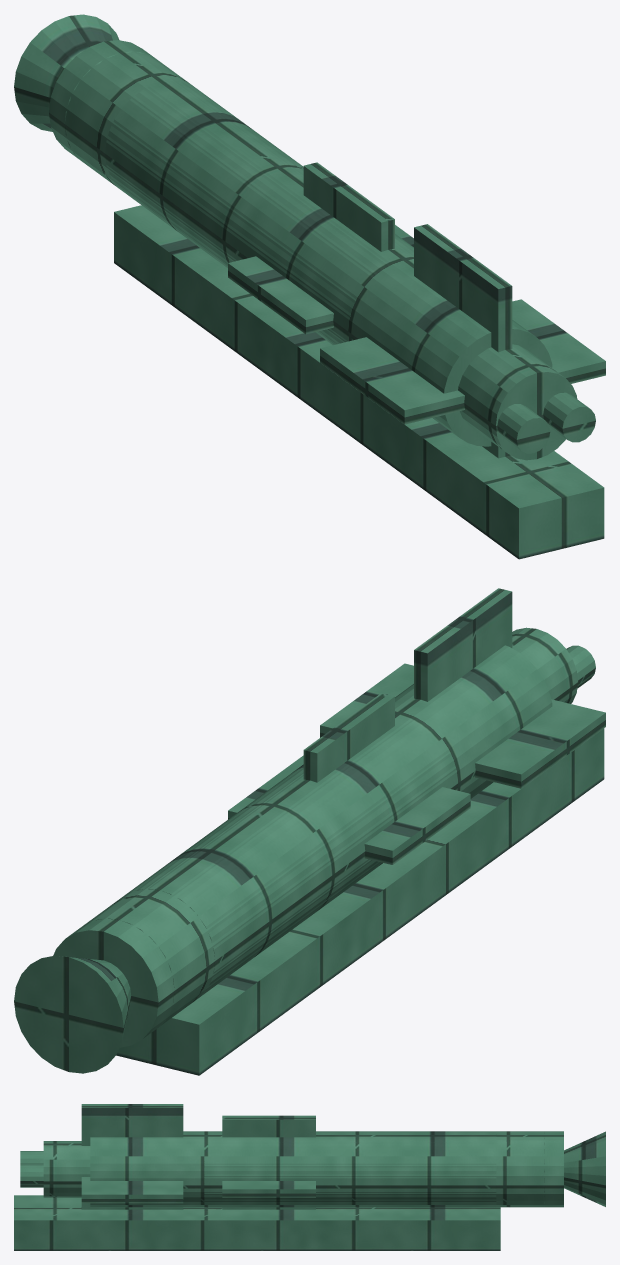
Rendered from viperx_missile.glb.
The picture shows the model from 3 angles, top to bottom: view 1: azimuth 30°, elevation 25°; view 2: azimuth 150°, elevation 25°; view 3: azimuth 270°, elevation 25°; orthographic projection. The views are drawn at different scales.
Visible parts, largest first — view 1: missile_body, launch_rail, projectile_body, clipped_fin_0, projectile, exhaust, clipped_fin_1, projectile_nose, dual_exhaust_-0.075, dual_exhaust_0.075; view 2: missile_body, launch_rail, projectile_body, projectile_nose, projectile, clipped_fin_0, clipped_fin_1, exhaust, dual_exhaust_-0.075; view 3: missile_body, launch_rail, projectile_body, projectile, clipped_fin_1, exhaust, projectile_nose, clipped_fin_0, dual_exhaust_0.075, dual_exhaust_-0.075.
Boxes of the visible parts, x1,y1,x2,y2 form: missile_body: (105,81,552,446); launch_rail: (114,205,604,559); projectile_body: (49,40,413,344); clipped_fin_0: (320,299,605,424); projectile: (228,162,413,334); exhaust: (458,344,577,460); clipped_fin_1: (414,224,512,458); projectile_nose: (14,14,119,131); dual_exhaust_-0.075: (497,404,550,453); dual_exhaust_0.075: (543,392,595,442); missile_body: (123,645,552,997); launch_rail: (116,728,604,1075); projectile_body: (53,717,456,1047); projectile_nose: (14,955,131,1073); projectile: (228,693,470,864); clipped_fin_0: (320,663,605,788); clipped_fin_1: (414,588,512,701); exhaust: (512,627,577,703); dual_exhaust_-0.075: (566,645,595,688); missile_body: (90,1131,496,1207); launch_rail: (14,1195,500,1250); projectile_body: (204,1131,563,1207); projectile: (222,1115,315,1209); clipped_fin_1: (81,1104,183,1209); exhaust: (43,1141,90,1197); projectile_nose: (564,1131,605,1206); clipped_fin_0: (81,1177,183,1203); dual_exhaust_0.075: (20,1164,43,1187); dual_exhaust_-0.075: (20,1151,43,1164).
Bounding box in the file's own units: 0.66 × 0.69 × 2.8.
1 material, 1 textured.
